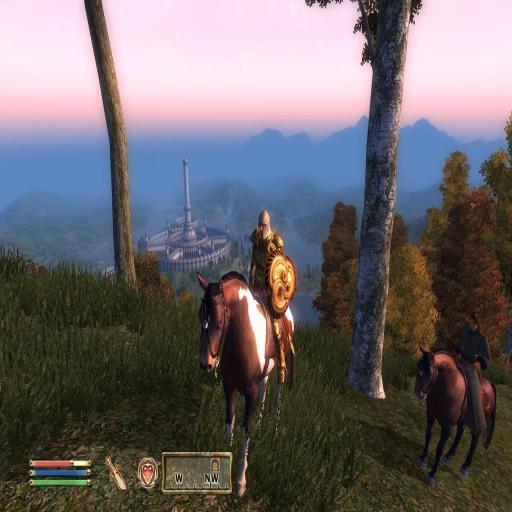horse: (194, 270, 295, 501), (412, 341, 496, 487)
